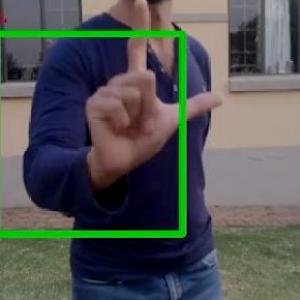land_hand: (76, 0, 226, 173)
